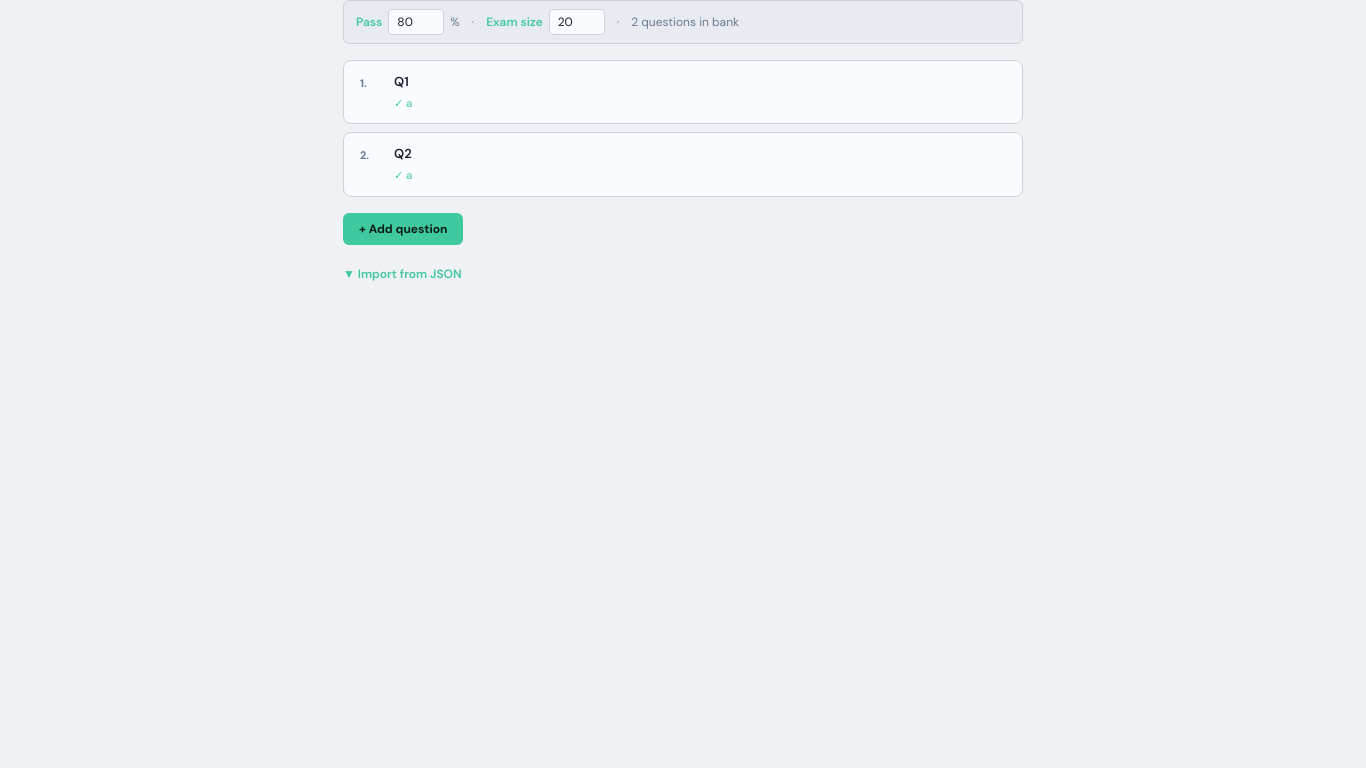
Test: AssessmentEditor › clicking + Add question opens inspector without persisting a draft
Click the button "+ Add question" at (403, 229), box [343,213,463,245]
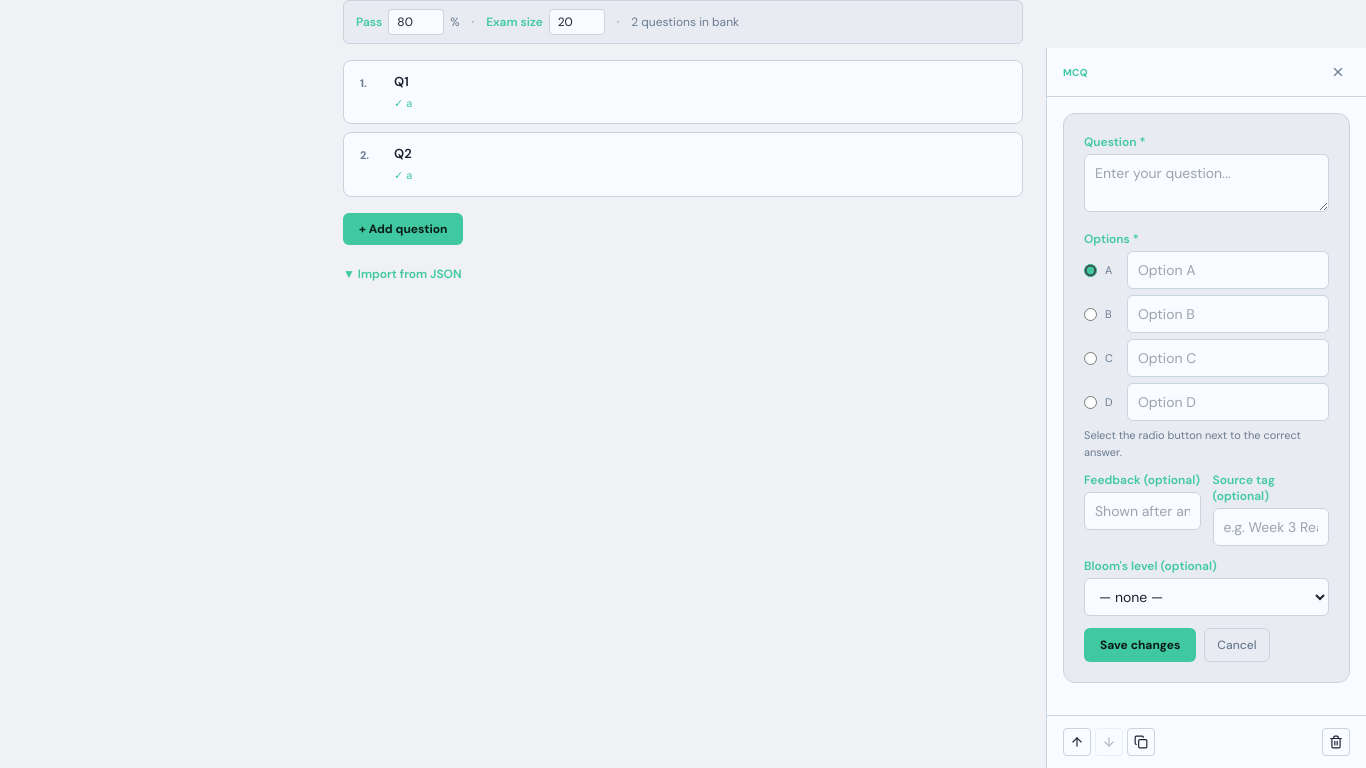
Now the button named "close inspector" is shown, box [1326,60,1350,84]
